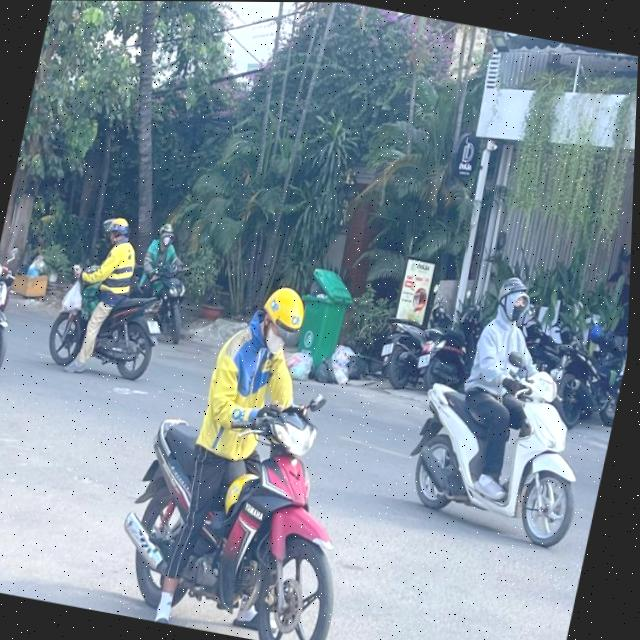motorcycle: (96, 374, 381, 640), (386, 343, 606, 555), (41, 260, 176, 392), (0, 262, 27, 392)
